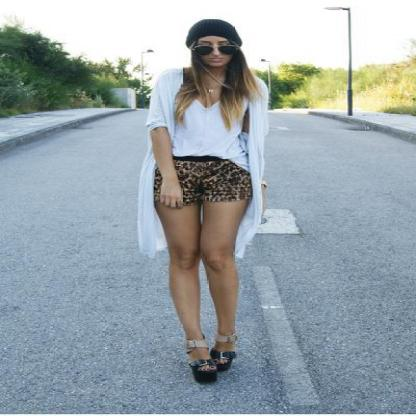hat: (190, 19, 242, 50)
jacket: (128, 69, 282, 257)
shoe: (190, 360, 229, 384)
shorts: (153, 156, 252, 208)
sunglass: (186, 34, 246, 63)
